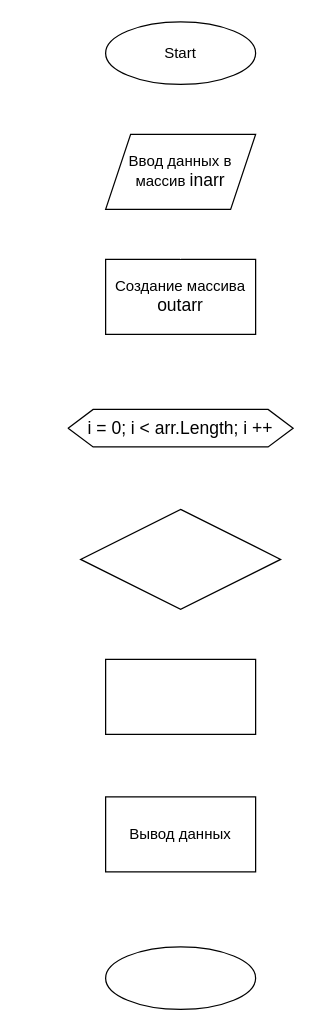
This 315x1031 diagram has some shape labels left out. Here are the shapes that lost their labels. From the top down, the centre of each, then its label:
point (180, 558): inarr[i].Length <= 3
point (180, 696): Записть в массив outarr
point (180, 977): Finish
